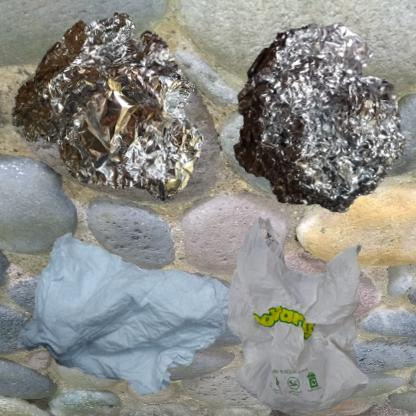aluminio: (213, 10, 416, 236), (10, 10, 206, 201)
bolsa: (213, 213, 395, 416)
papel: (10, 213, 278, 416)
